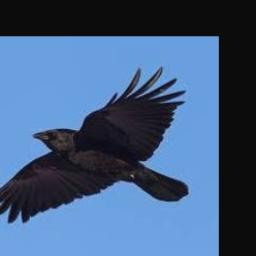Crow: (0, 67, 190, 223)
